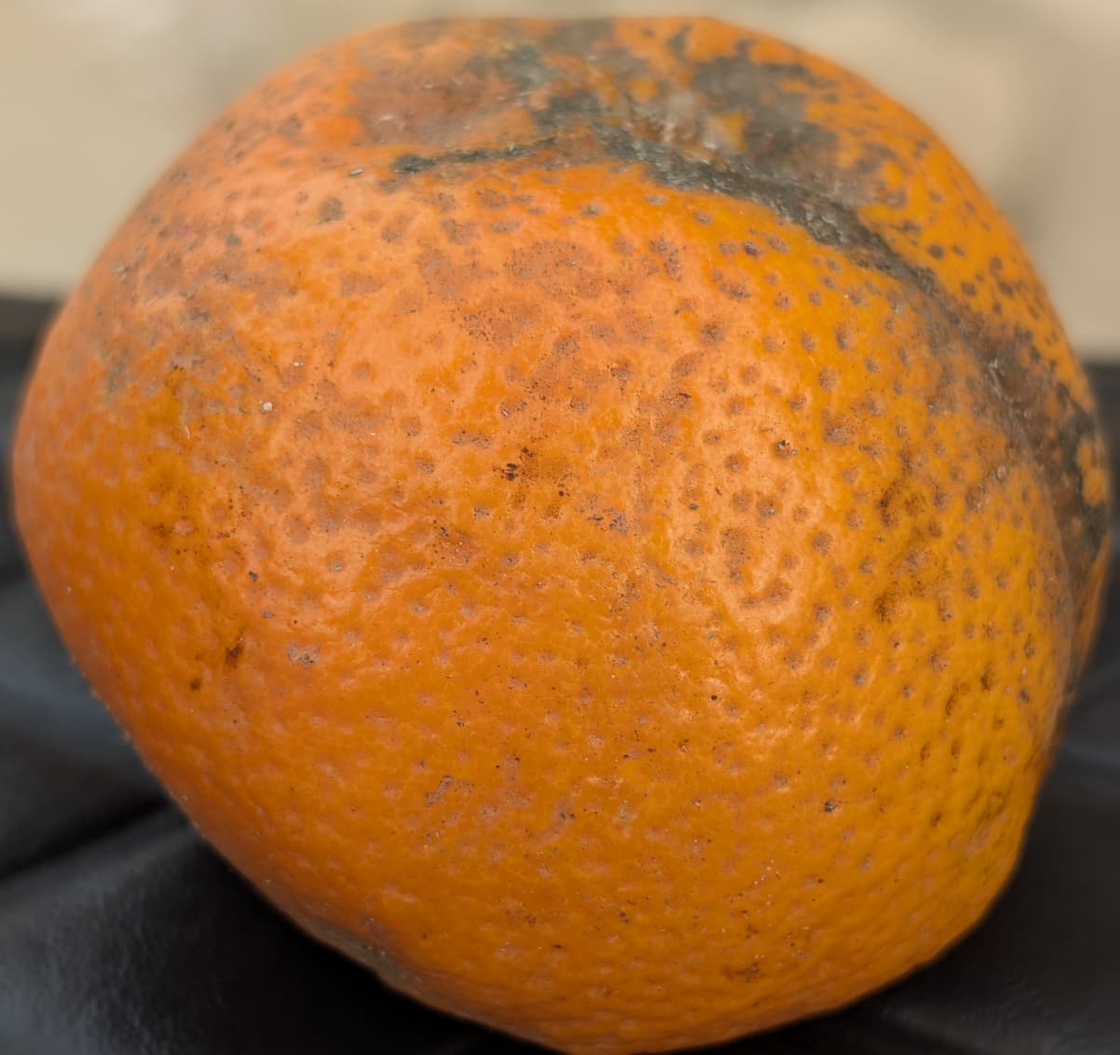orange: (138, 52, 960, 845)
